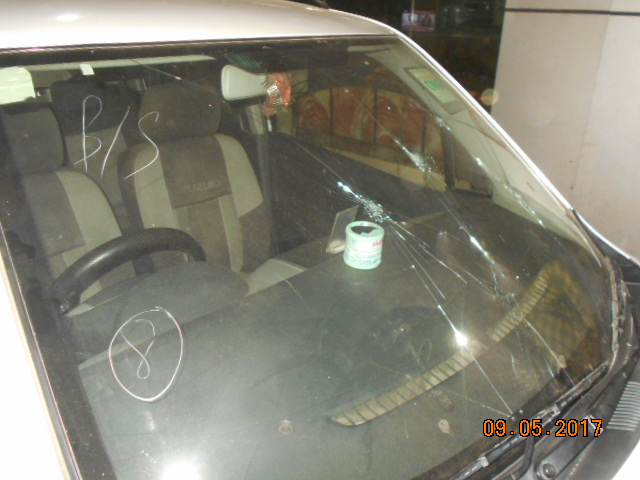Shatter: (353, 175, 391, 235), (402, 134, 436, 195), (444, 232, 481, 257), (401, 255, 430, 273), (472, 130, 484, 171), (511, 184, 527, 205)
